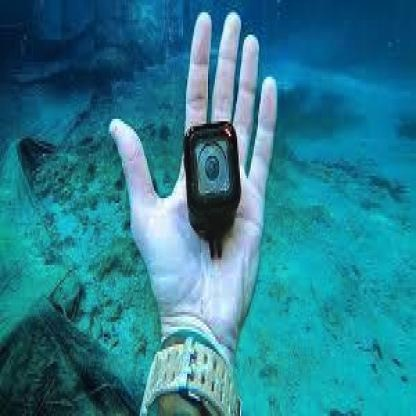electronics: (183, 121, 241, 243)
